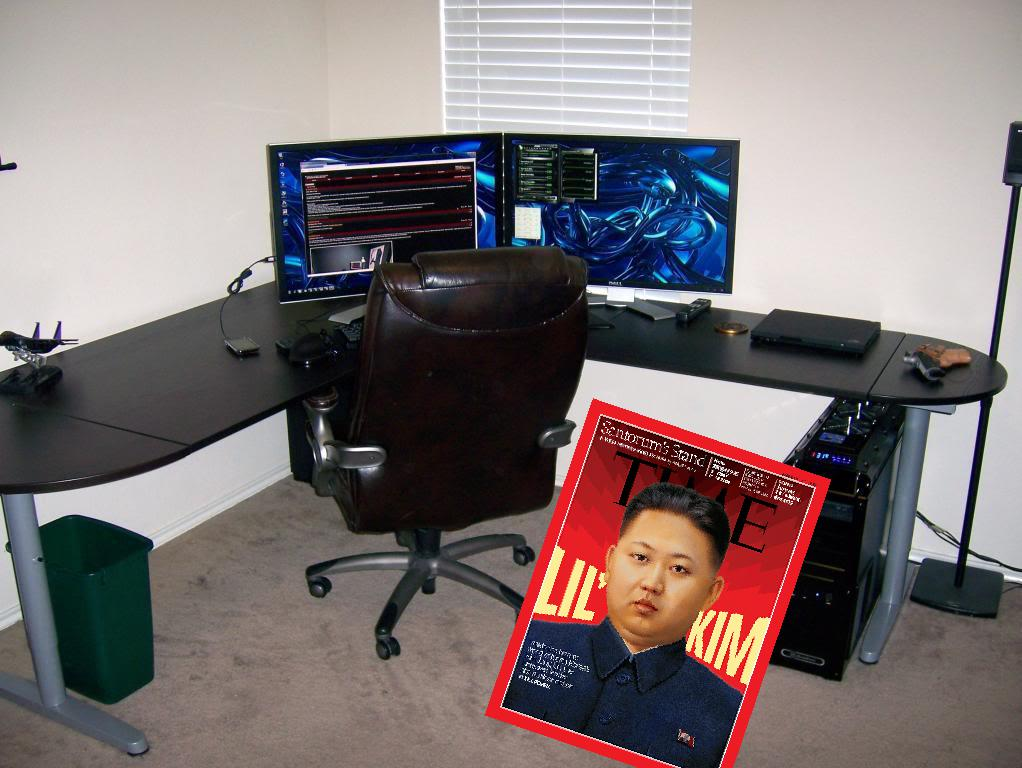times: (488, 395, 831, 768)
